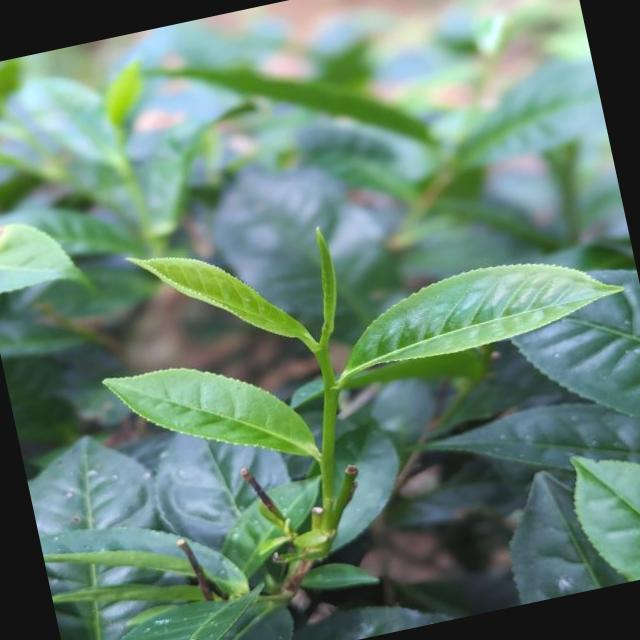Stem: (313, 347, 331, 365)
